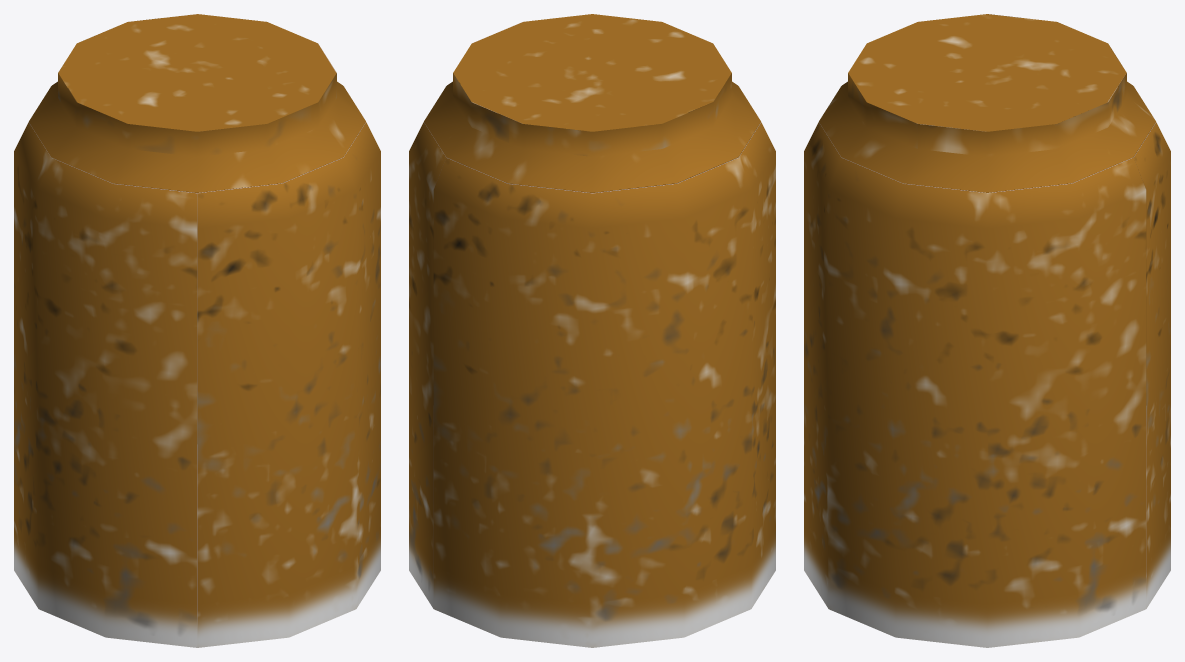
File: Props_Roh_Container_Transparent.FBX
3 views of the same model, side by side, from view 1: azimuth 30°, elevation 25°; view 2: azimuth 150°, elevation 25°; view 3: azimuth 270°, elevation 25° (orthographic).
Visible parts, largest first — view 1: Props_Roh_Container_Transparent; view 2: Props_Roh_Container_Transparent; view 3: Props_Roh_Container_Transparent.
Part boxes in pixels (<box>): Props_Roh_Container_Transparent: <box>14,14,380,647</box>; Props_Roh_Container_Transparent: <box>409,14,775,647</box>; Props_Roh_Container_Transparent: <box>804,14,1170,647</box>.
Bounding box in the file's own units: 8.62 × 12.9 × 8.62.
